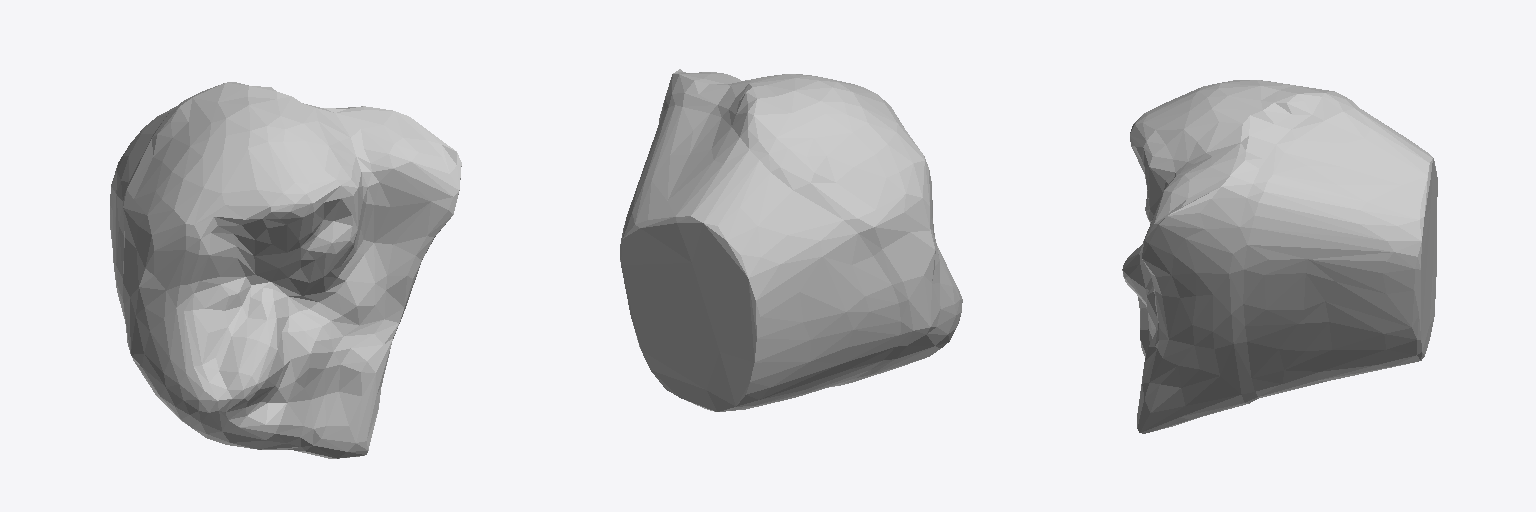
The model's file is local_t47_7780_si.OBJ.
3 renders of one model, left to right at view 1: azimuth 30°, elevation 25°; view 2: azimuth 150°, elevation 25°; view 3: azimuth 270°, elevation 25°, orthographic.
Parts seen in each view (by area): view 1: Group46184; view 2: Group46184; view 3: Group46184.
Part boxes in pixels (x1,y1,x2,y2): Group46184: (110, 82, 461, 458); Group46184: (620, 69, 962, 411); Group46184: (1122, 80, 1437, 433).
Size of the model in its own units: 9.54 by 10.24 by 8.96.